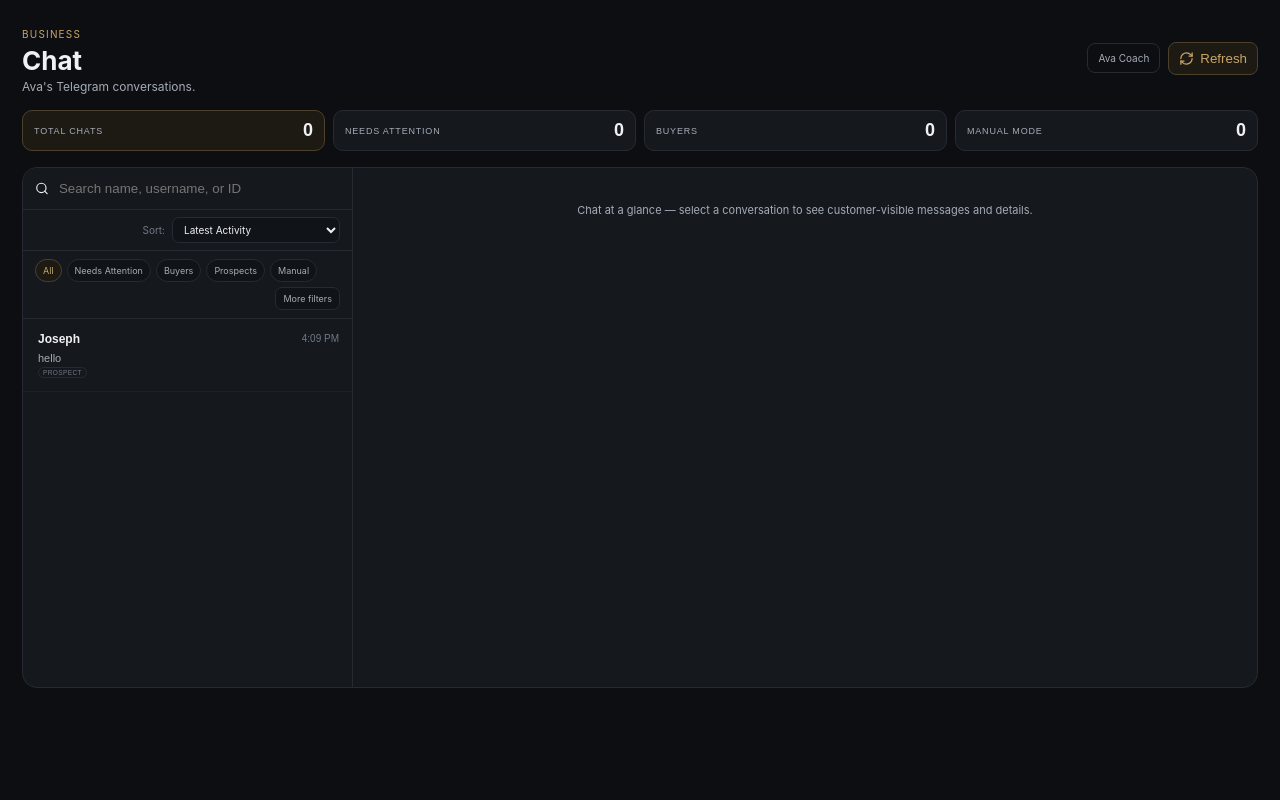
Test: PPV Escalation intelligence › fails safely when the optional projection is absent
This screenshot has width=1280, height=800.
Click the button "Joseph hello PROSPECT 4:09 PM".
click(59, 339)  # box top-left (23, 319), bottom-right (352, 392)
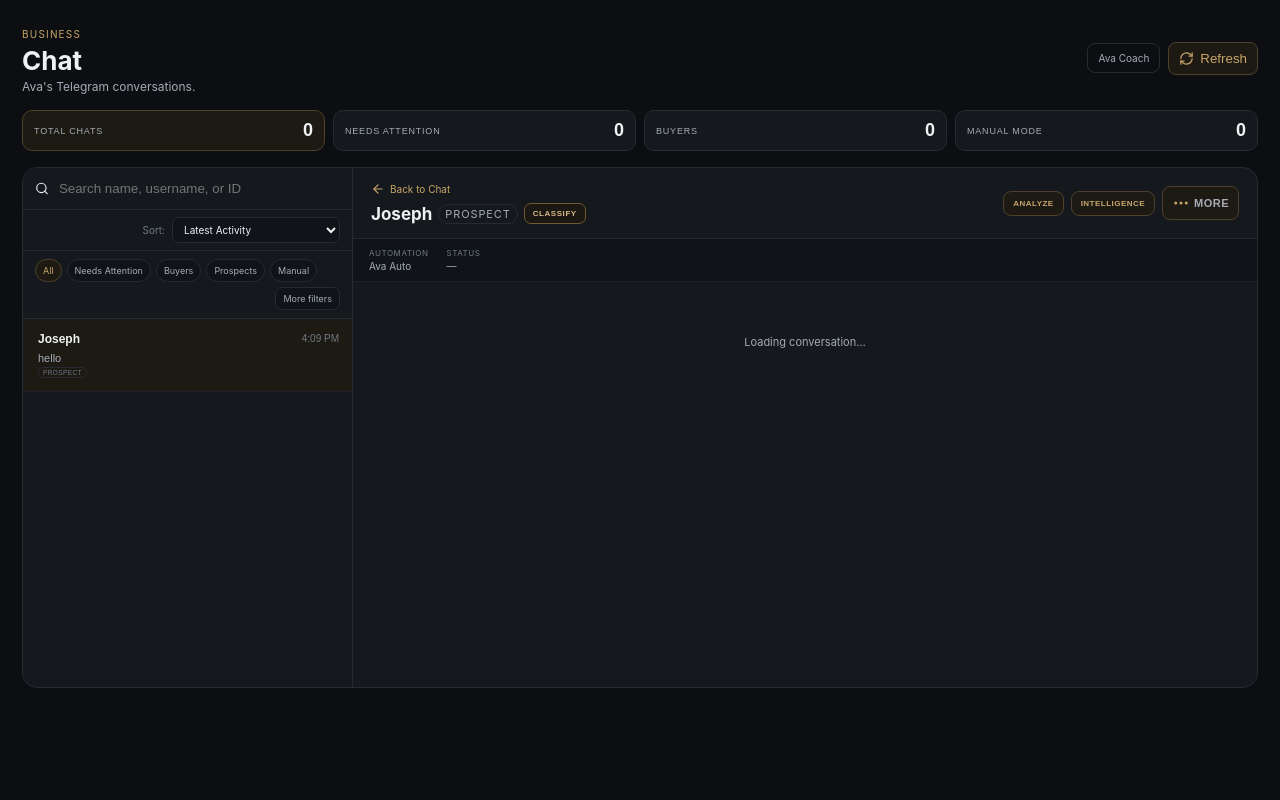
Click the button with aria-label "Open Customer Intelligence".
click(1113, 203)  # box top-left (1071, 190), bottom-right (1155, 216)
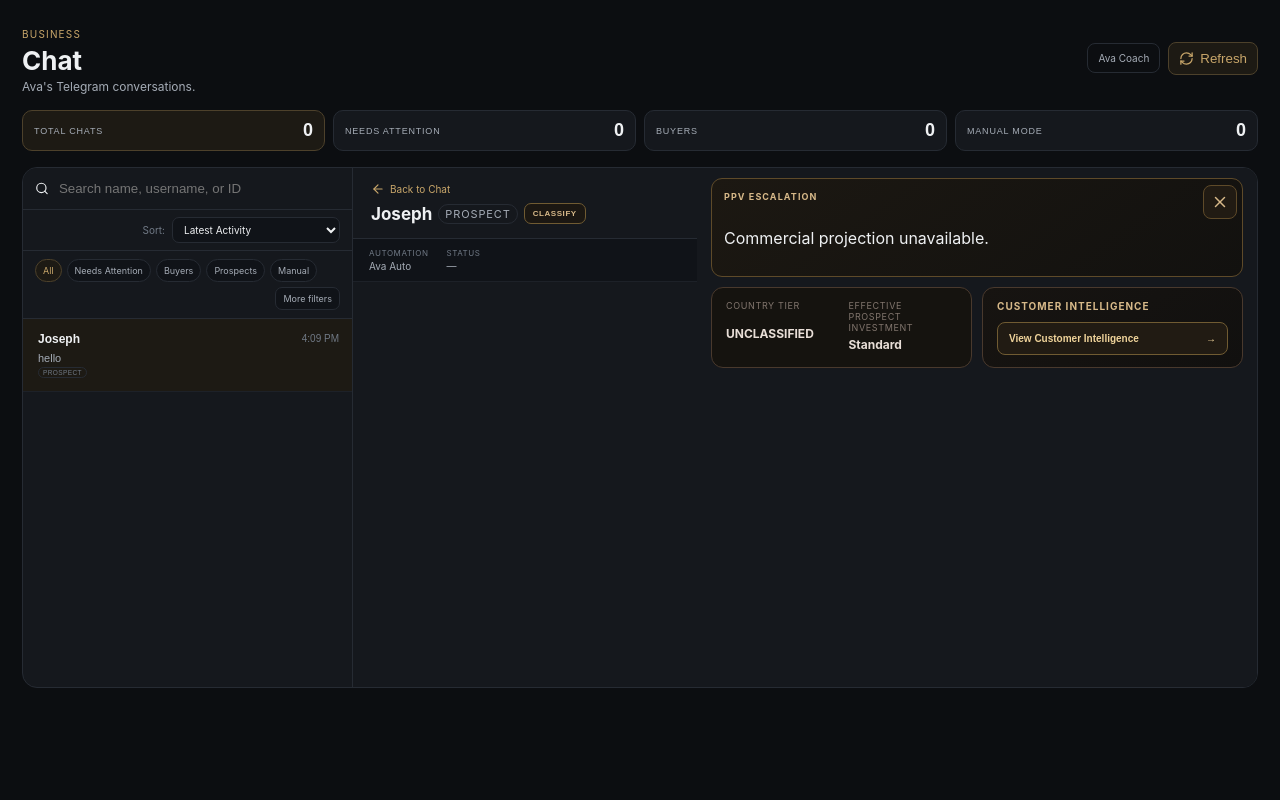
Expected: the element named "Customer Intelligence" is shown, top-left (827, 168), bottom-right (1257, 687)
Expected: the element "PPV Escalation" shows "Commercial projection unavailable", top-left (724, 228), bottom-right (989, 248)
